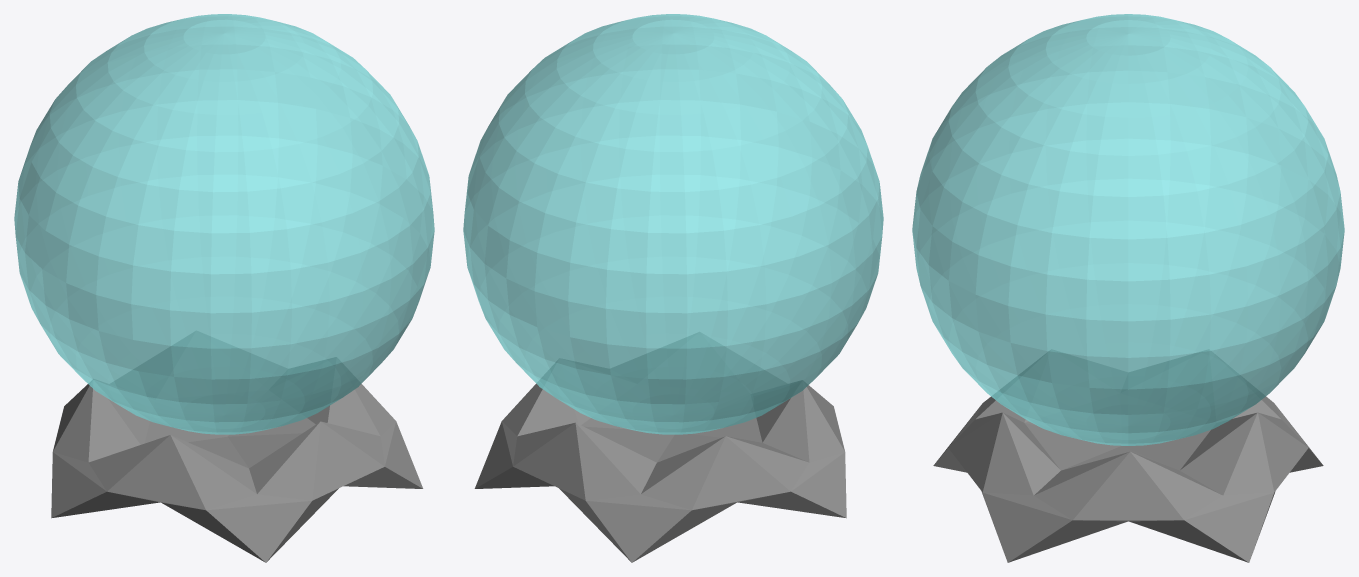
Rendered from wall.fbx.
3 renders of one model, left to right at view 1: azimuth 30°, elevation 25°; view 2: azimuth 150°, elevation 25°; view 3: azimuth 270°, elevation 25°, orthographic. The views are drawn at different scales.
Visible parts, largest first — view 1: WallSphere, WallBase; view 2: WallSphere, WallBase; view 3: WallSphere, WallBase.
Part boxes in pixels (<box>): WallSphere: <box>14,14,434,434</box>; WallBase: <box>51,331,423,562</box>; WallSphere: <box>463,14,883,434</box>; WallBase: <box>474,332,846,562</box>; WallSphere: <box>912,14,1344,445</box>; WallBase: <box>933,350,1323,562</box>.
Bounding box in the file's own units: 450 × 527 × 450.
